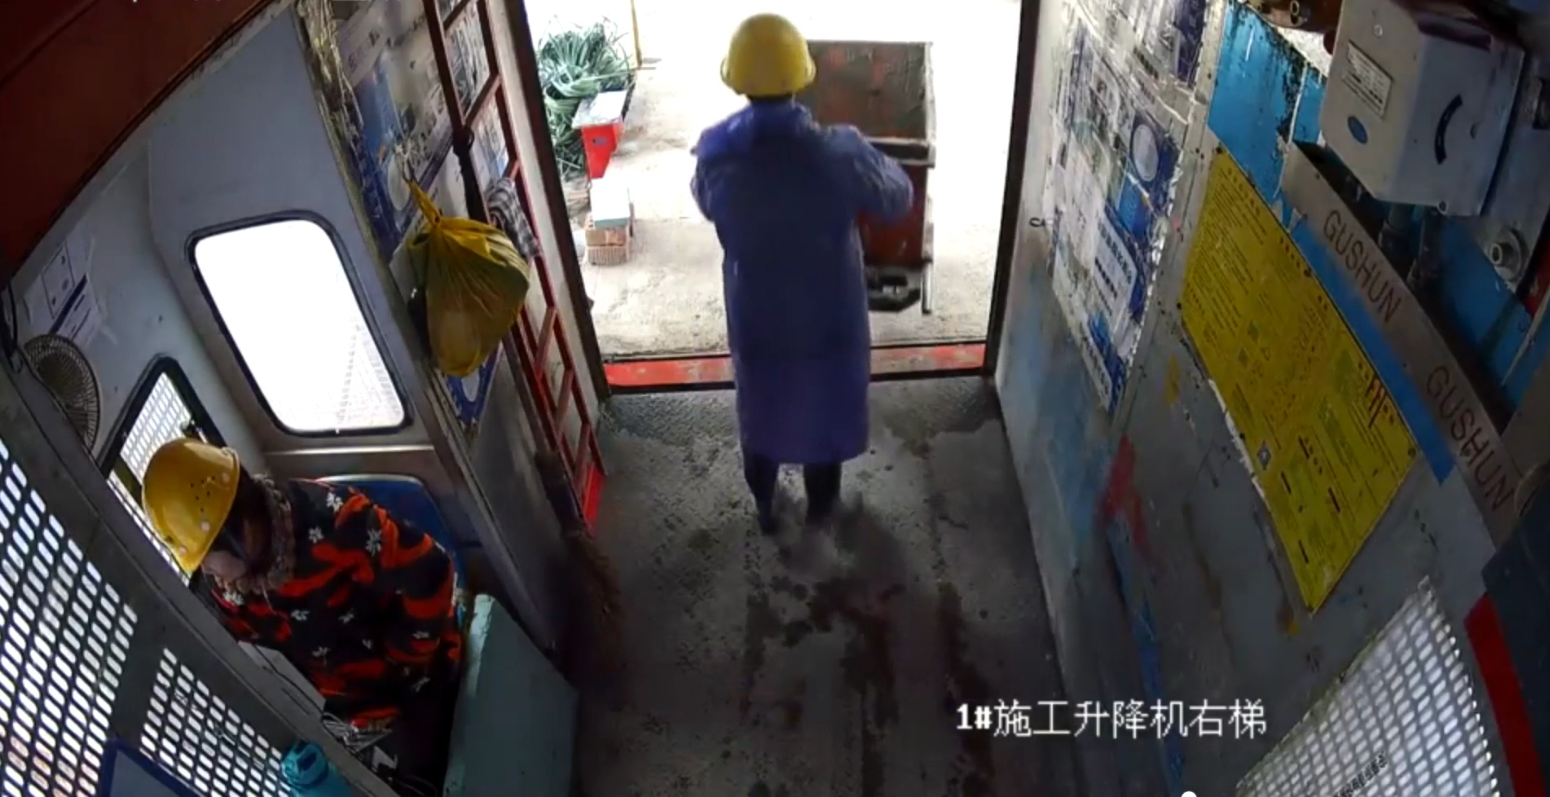person: (677, 10, 920, 533), (133, 435, 473, 795)
